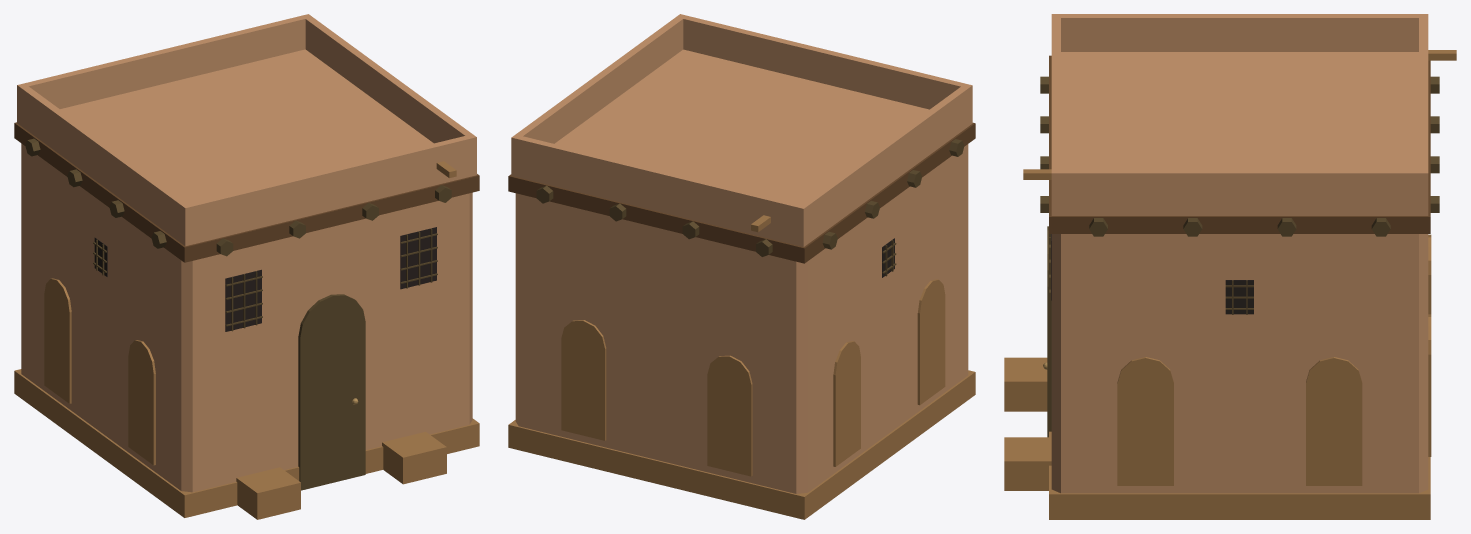
Rendered from Housing_MiddleEast_01.fbx.
The picture shows the model from 3 angles, left to right: view 1: azimuth 30°, elevation 25°; view 2: azimuth 150°, elevation 25°; view 3: azimuth 270°, elevation 25°; orthographic projection. The views are drawn at different scales.
Parts seen in each view (by area): view 1: Housing_MiddleEast_01_Mesh; view 2: Housing_MiddleEast_01_Mesh; view 3: Housing_MiddleEast_01_Mesh.
Part boxes in pixels (left/top/right/bottom): Housing_MiddleEast_01_Mesh: left=14, top=14, right=479, bottom=519; Housing_MiddleEast_01_Mesh: left=508, top=14, right=975, bottom=519; Housing_MiddleEast_01_Mesh: left=1004, top=14, right=1456, bottom=519.
Size of the model in its own units: 4.24 by 4.05 by 4.8.
